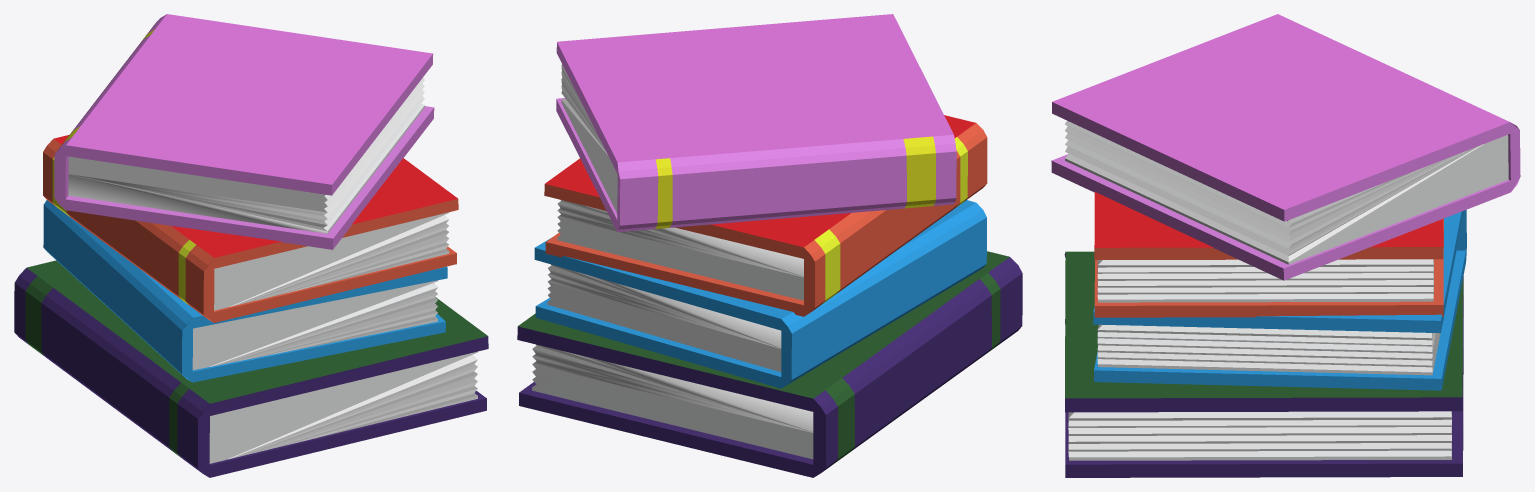
File: bookstack2.fbx
The picture shows the model from 3 angles, left to right: view 1: azimuth 30°, elevation 25°; view 2: azimuth 150°, elevation 25°; view 3: azimuth 270°, elevation 25°; orthographic projection. The views are drawn at different scales.
Visible parts, largest first — view 1: books; view 2: books; view 3: books.
Part boxes in pixels (x1,y1,x2,y2): books: (14,14,488,477); books: (517,14,1022,477); books: (1051,14,1520,477).
Size of the model in its own units: 734 by 508 by 730.
